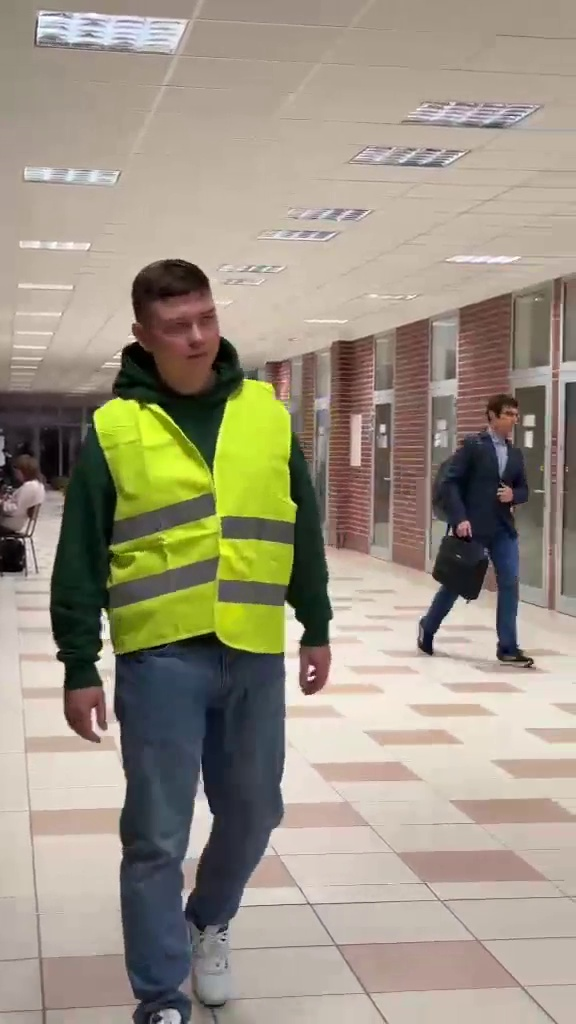no vest: (408, 392, 548, 673)
vest: (51, 258, 345, 1016)
